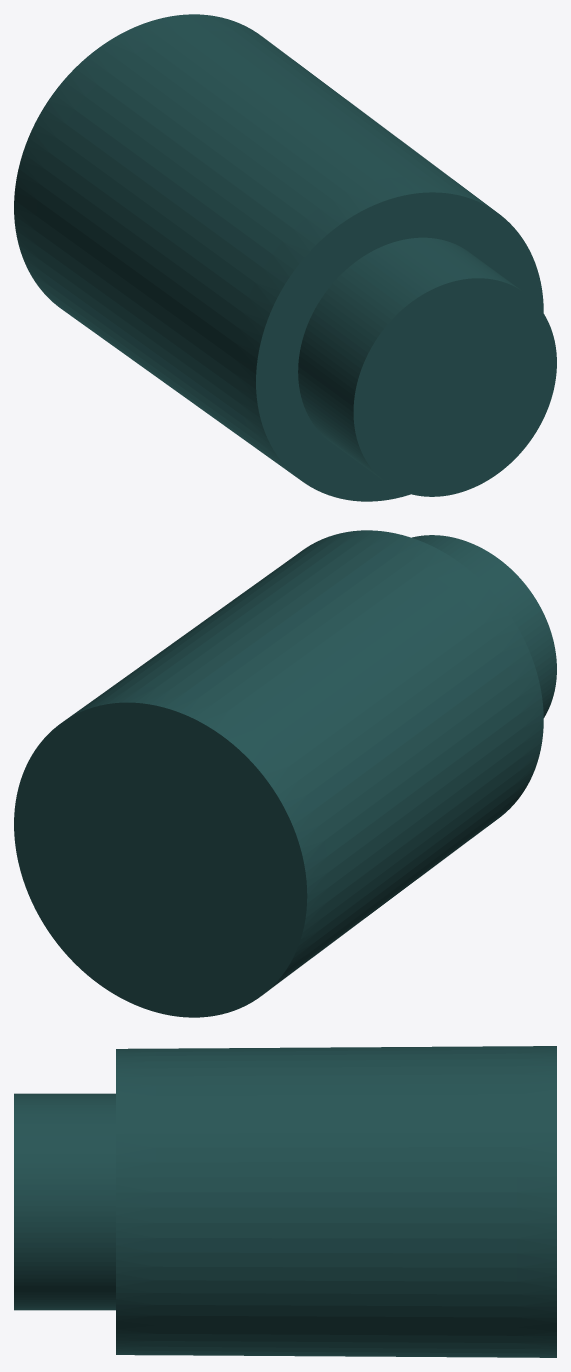
3 renders of one model, top to bottom at view 1: azimuth 30°, elevation 25°; view 2: azimuth 150°, elevation 25°; view 3: azimuth 270°, elevation 25°, orthographic. The views are drawn at different scales.
Visible parts, largest first — view 1: node; view 2: node; view 3: node.
Boxes of the visible parts, x1=… form: node: x1=14, y1=14, x2=556, y2=501; node: x1=14, y1=530, x2=556, y2=1017; node: x1=14, y1=1046, x2=556, y2=1357.
Size of the model in its own units: 0.1061 by 0.1061 by 0.1847.
